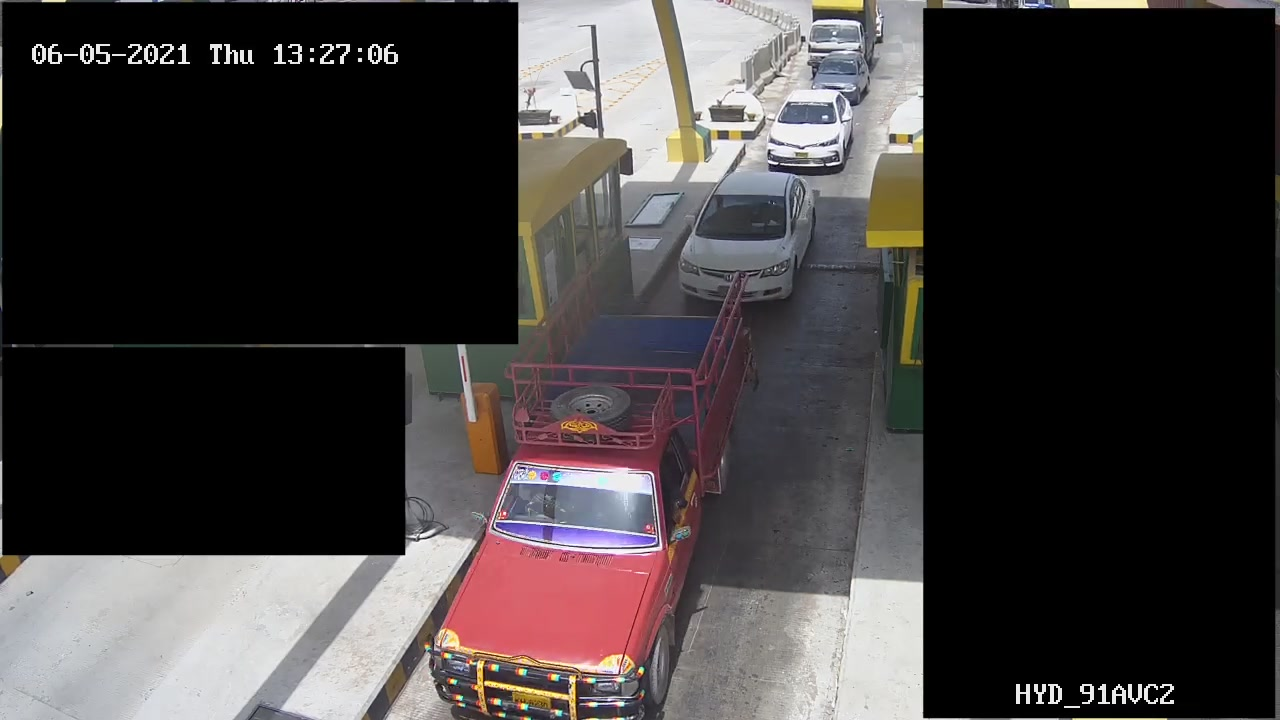F1: (421, 261, 765, 706)
